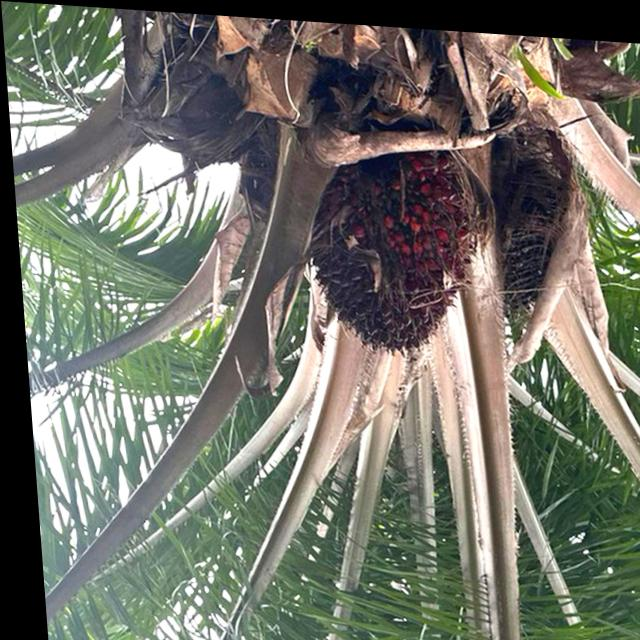ripe: (275, 120, 491, 371)
